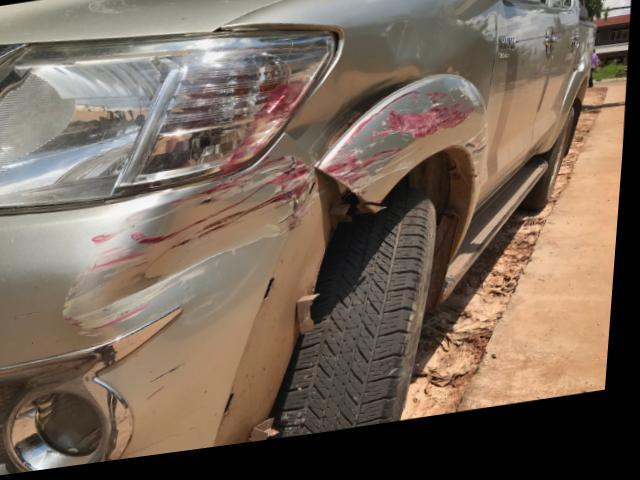dent: (102, 173, 310, 341), (291, 27, 421, 159)
dislocated part: (223, 179, 376, 454)
scratch: (322, 101, 485, 206), (63, 222, 148, 339)
